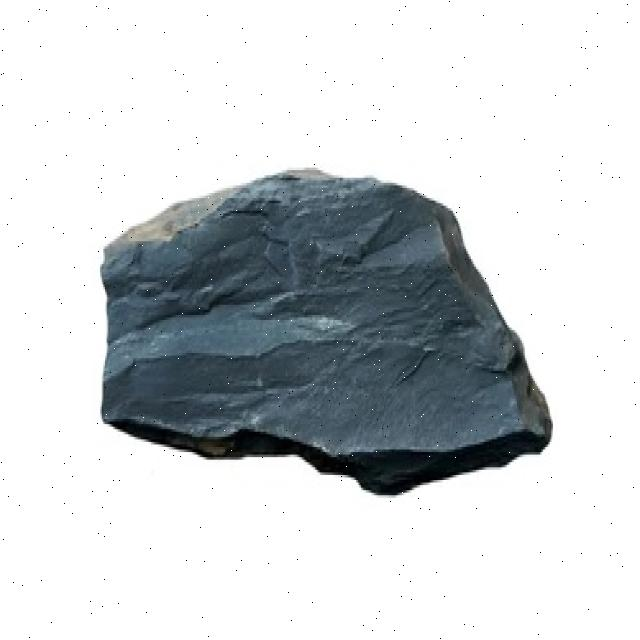Sedimentary: (79, 147, 576, 493)
